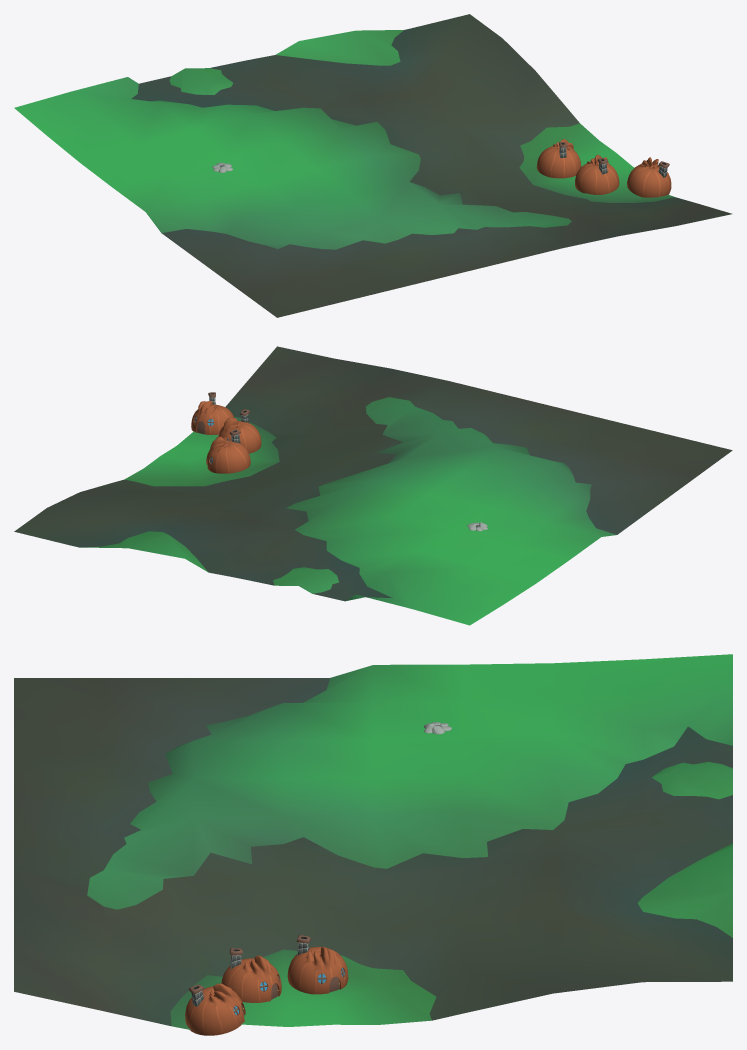
File: LevelD2.fbx
3 renders of one model, top to bottom at view 1: azimuth 30°, elevation 25°; view 2: azimuth 150°, elevation 25°; view 3: azimuth 270°, elevation 25°, orthographic. The views are drawn at different scales.
Visible parts, largest first — view 1: GroundD2, OniHouse, OniHouse.004, OniHouse.002; view 2: GroundD2, OniHouse.002, OniHouse, OniHouse.004; view 3: GroundD2, OniHouse, OniHouse.002, OniHouse.004.
Part boxes in pixels (bbox=[...]): GroundD2: bbox=[14, 14, 731, 317]; OniHouse: bbox=[627, 157, 671, 197]; OniHouse.004: bbox=[575, 154, 619, 194]; OniHouse.002: bbox=[536, 139, 581, 178]; GroundD2: bbox=[14, 346, 732, 625]; OniHouse.002: bbox=[206, 429, 250, 473]; OniHouse: bbox=[191, 392, 234, 434]; OniHouse.004: bbox=[218, 409, 261, 453]; GroundD2: bbox=[14, 654, 732, 1029]; OniHouse: bbox=[185, 983, 245, 1035]; OniHouse.002: bbox=[287, 935, 348, 994]; OniHouse.004: bbox=[221, 948, 281, 1002].
Size of the model in its own units: 9240 by 1087 by 9057.
